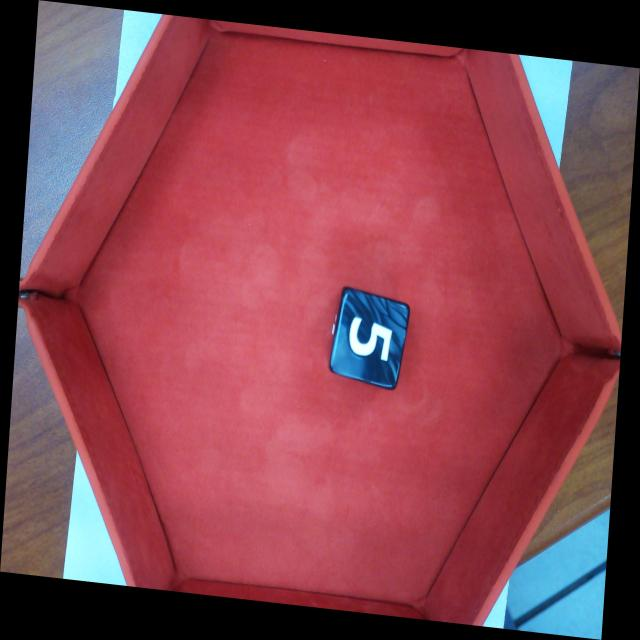dice: (327, 285, 412, 393)
